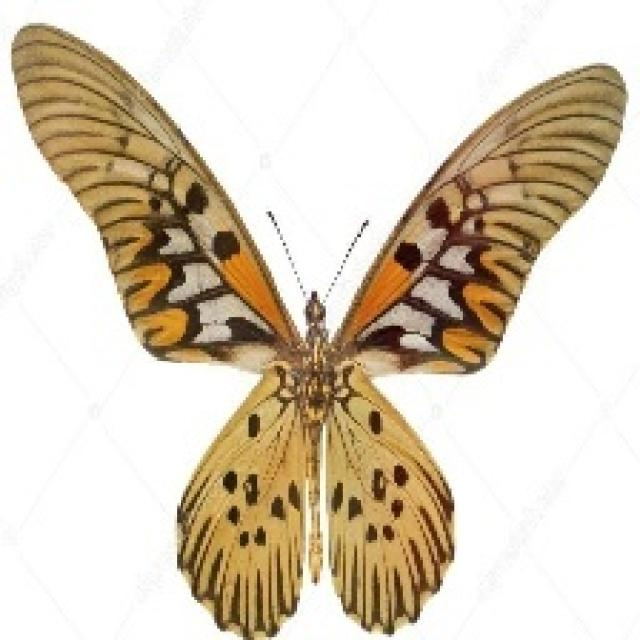butterfly: (9, 20, 628, 637)
